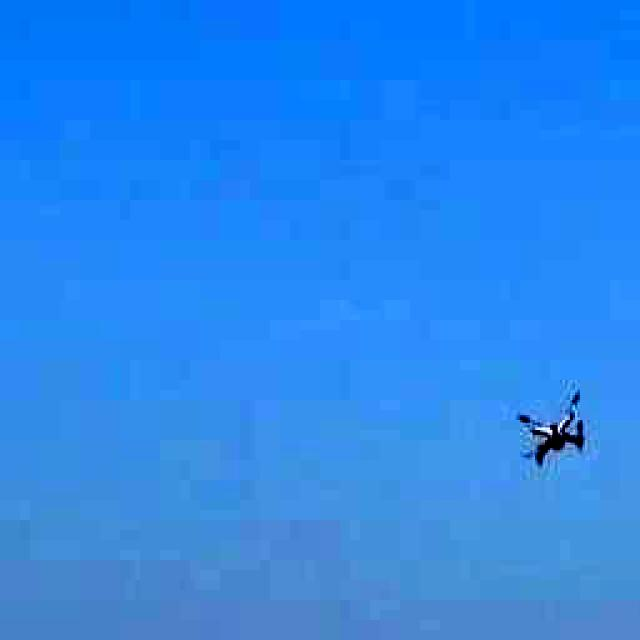bird: (498, 368, 608, 485)
